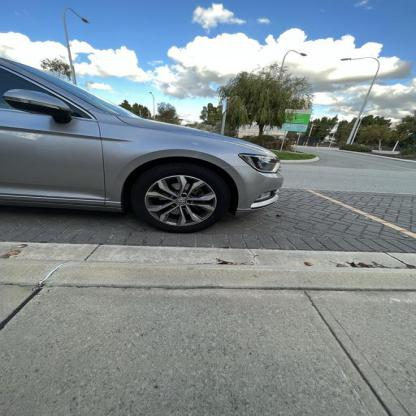Tire: (128, 162, 229, 233)
